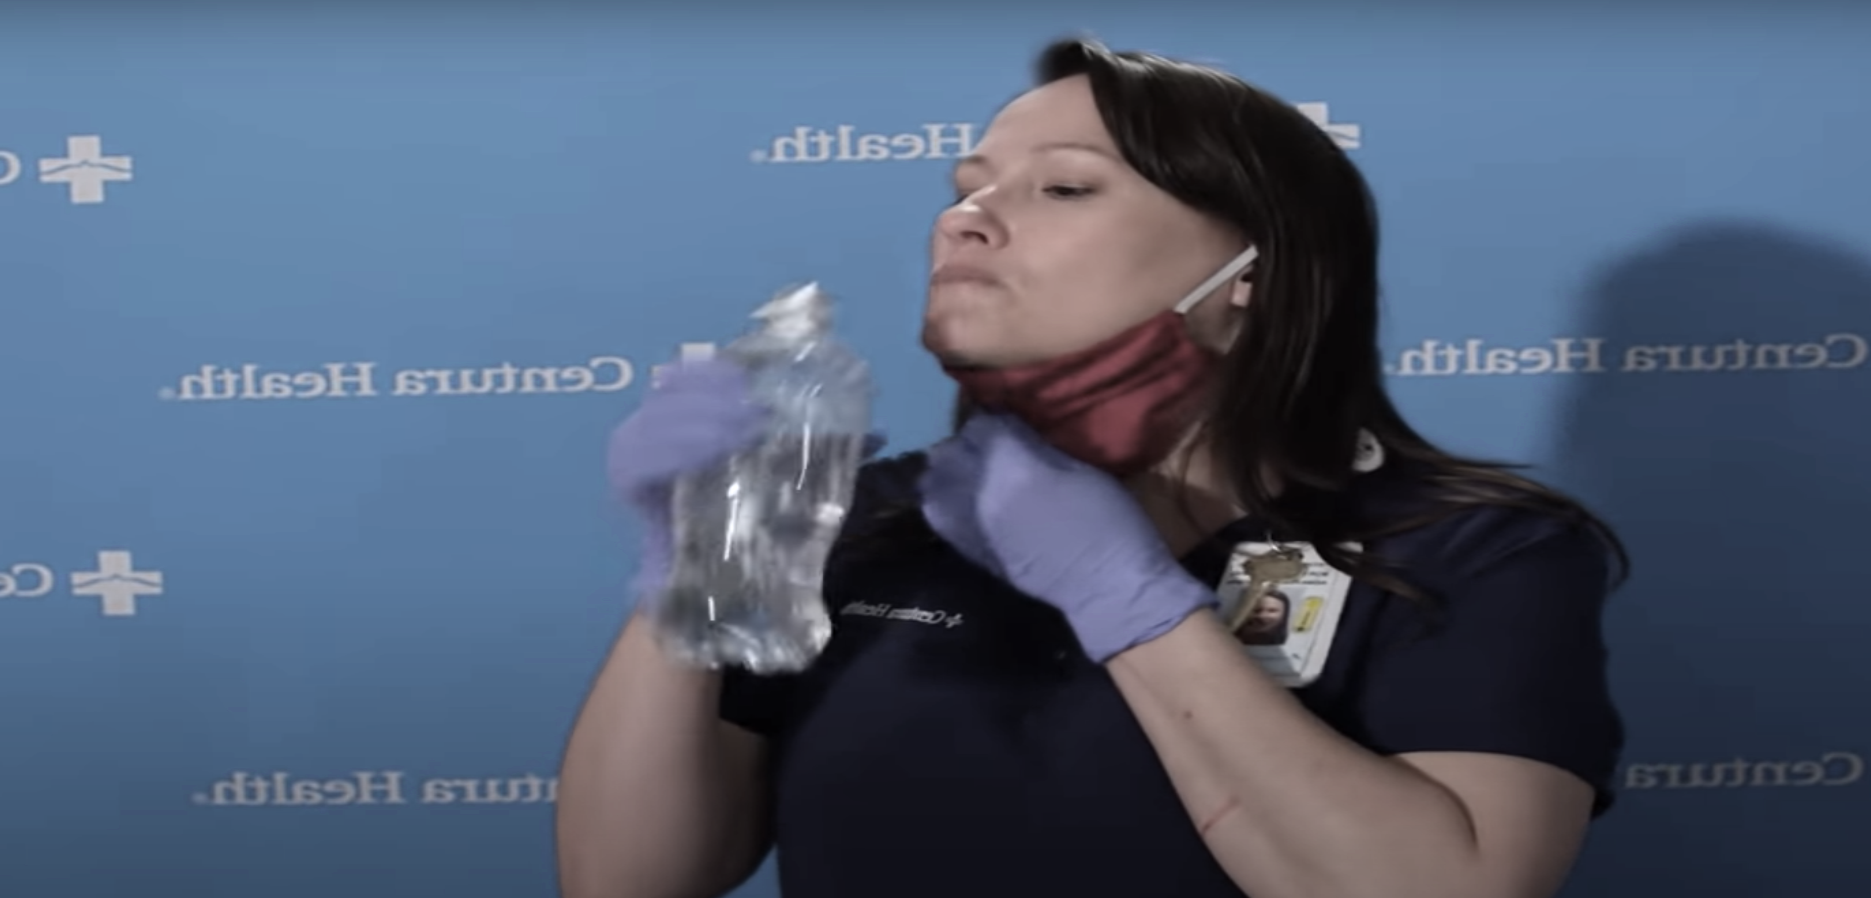mask_weared_incorrect: (919, 40, 1374, 477)
